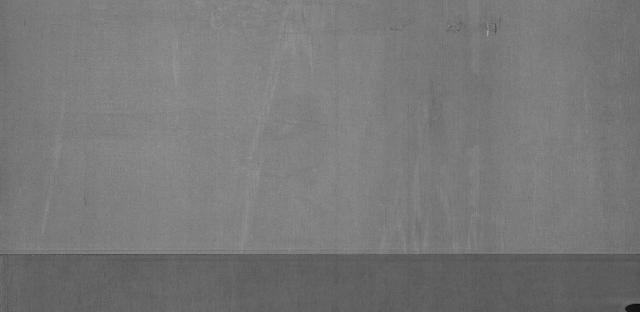punching_hole: (619, 302, 640, 312)
welding_line: (1, 245, 639, 264)
